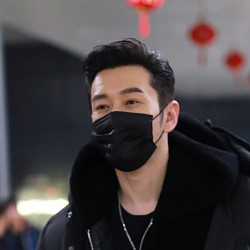mask: (83, 109, 161, 171)
